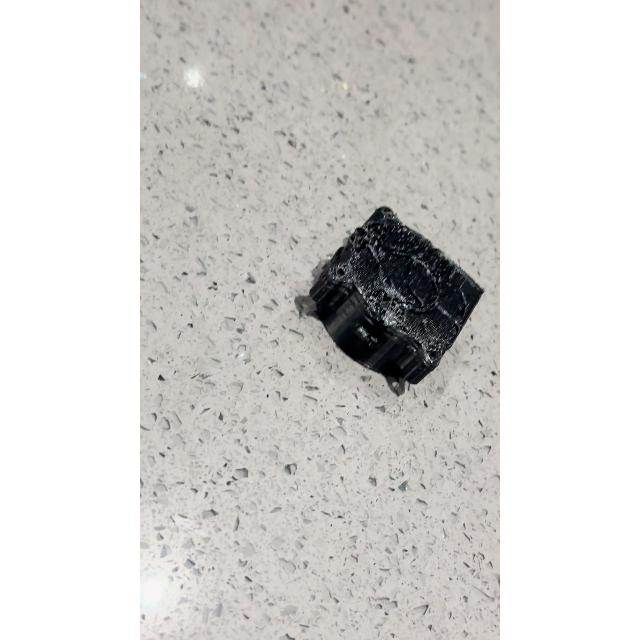Pieza_3: (284, 194, 488, 410)
